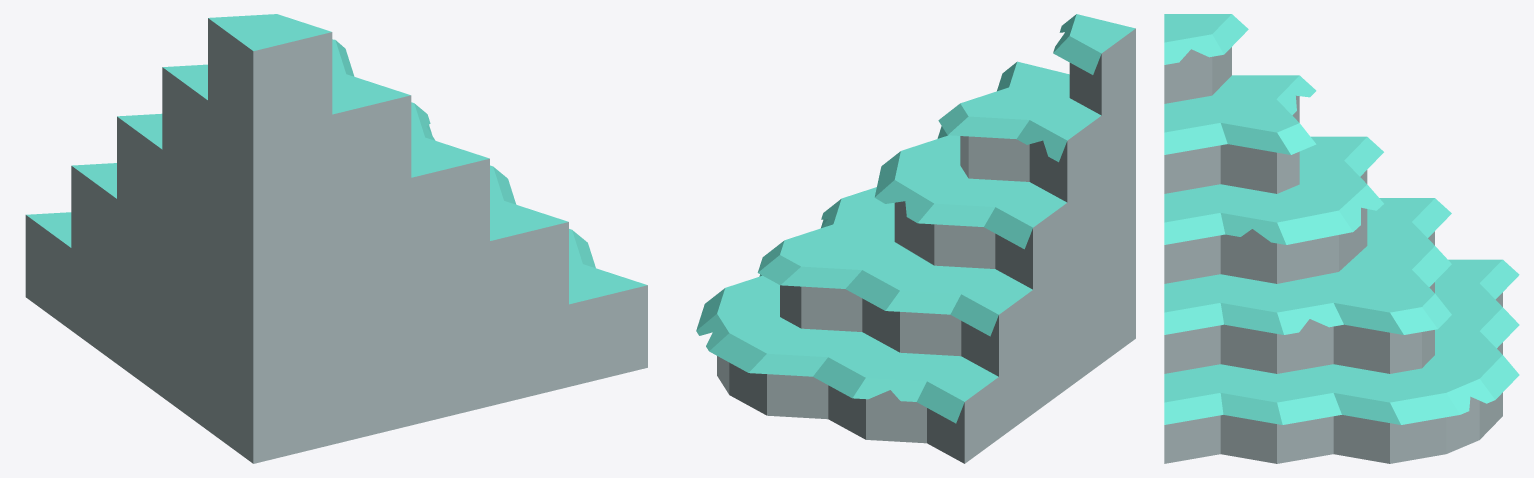
Rendered from cliff_stepsCorner_stone.glb.
3 renders of one model, left to right at view 1: azimuth 30°, elevation 25°; view 2: azimuth 150°, elevation 25°; view 3: azimuth 270°, elevation 25°, orthographic. The views are drawn at different scales.
Parts seen in each view (by area): view 1: cliff_stepsCorner_stone; view 2: cliff_stepsCorner_stone; view 3: cliff_stepsCorner_stone.
Part boxes in pixels (x1,y1,x2,y2): cliff_stepsCorner_stone: [25, 14, 647, 463]; cliff_stepsCorner_stone: [696, 14, 1135, 463]; cliff_stepsCorner_stone: [1164, 14, 1519, 463].
Size of the model in its own units: 1.05 by 1 by 1.05.
